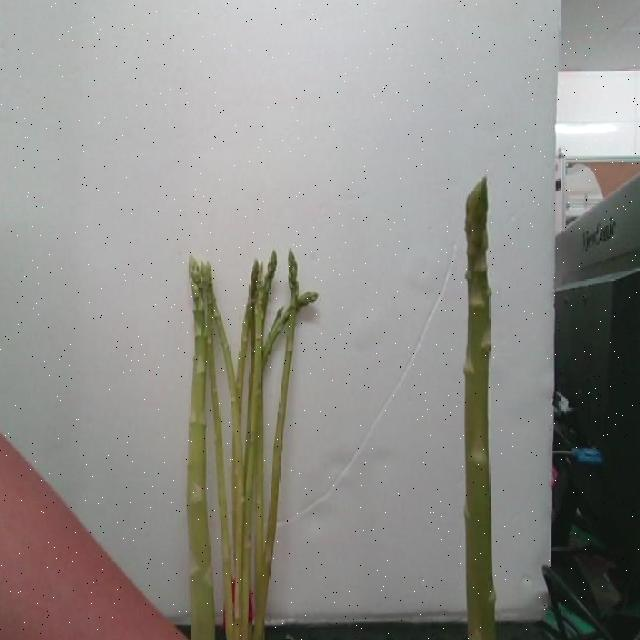aspargus: (464, 181, 498, 640)
